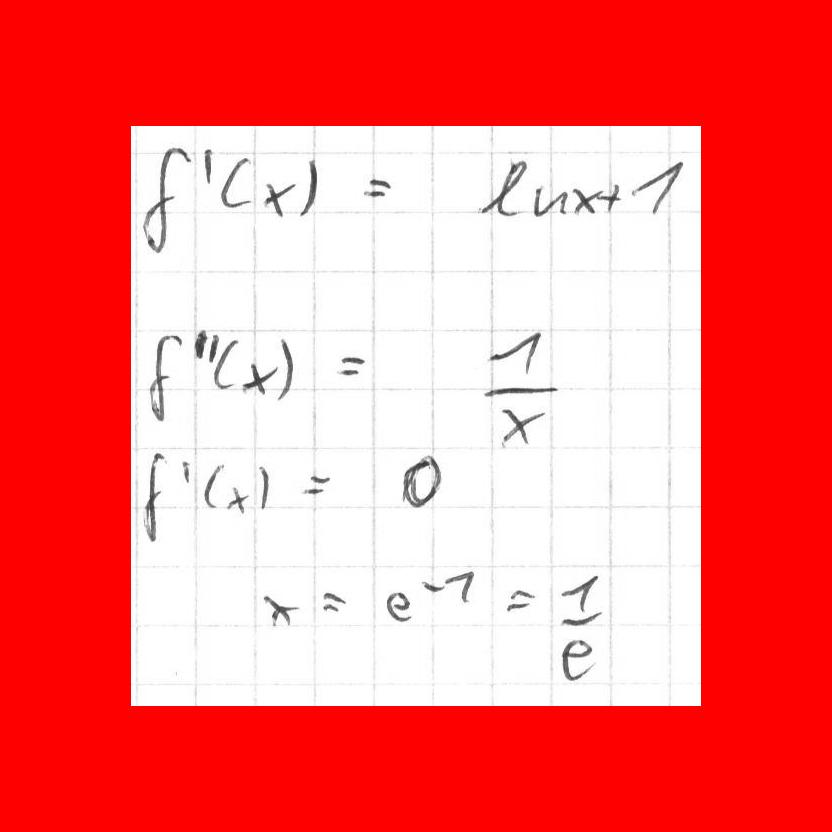Char: (140, 140, 186, 260), (477, 157, 527, 218), (485, 327, 542, 380), (632, 160, 683, 217), (146, 333, 180, 417), (140, 446, 169, 543), (401, 450, 444, 505), (495, 405, 546, 447), (218, 153, 253, 213), (422, 568, 477, 603), (558, 638, 597, 684), (213, 333, 241, 393), (480, 380, 558, 401), (557, 578, 604, 612), (573, 182, 620, 216), (263, 176, 295, 220), (298, 155, 319, 221), (262, 592, 297, 631), (242, 356, 274, 397), (532, 183, 566, 218), (382, 588, 413, 624), (503, 584, 537, 616), (278, 336, 294, 403), (203, 463, 225, 511), (191, 327, 219, 364), (360, 175, 394, 199), (559, 613, 607, 630), (301, 471, 332, 497), (334, 352, 363, 378), (319, 588, 347, 614), (257, 464, 273, 509), (228, 482, 247, 516), (201, 144, 215, 186), (180, 458, 194, 486)
